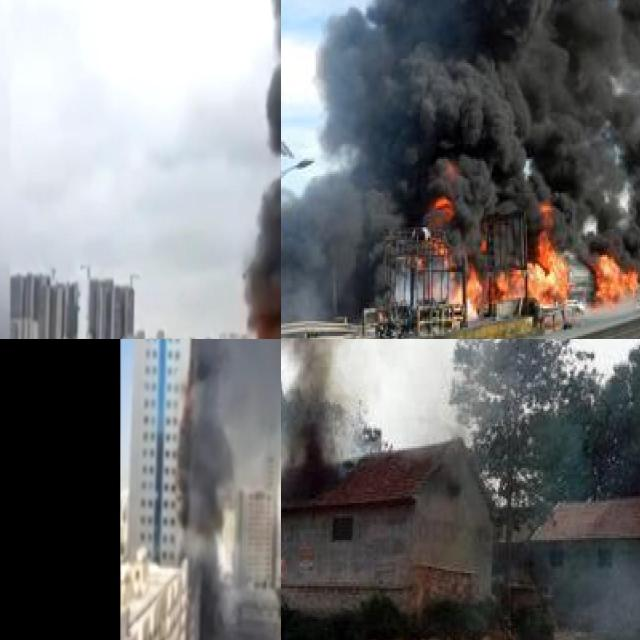fire: (425, 195, 578, 308), (591, 251, 636, 302)
smoke: (281, 0, 640, 319), (281, 339, 559, 528), (182, 339, 281, 640), (570, 549, 640, 640)
